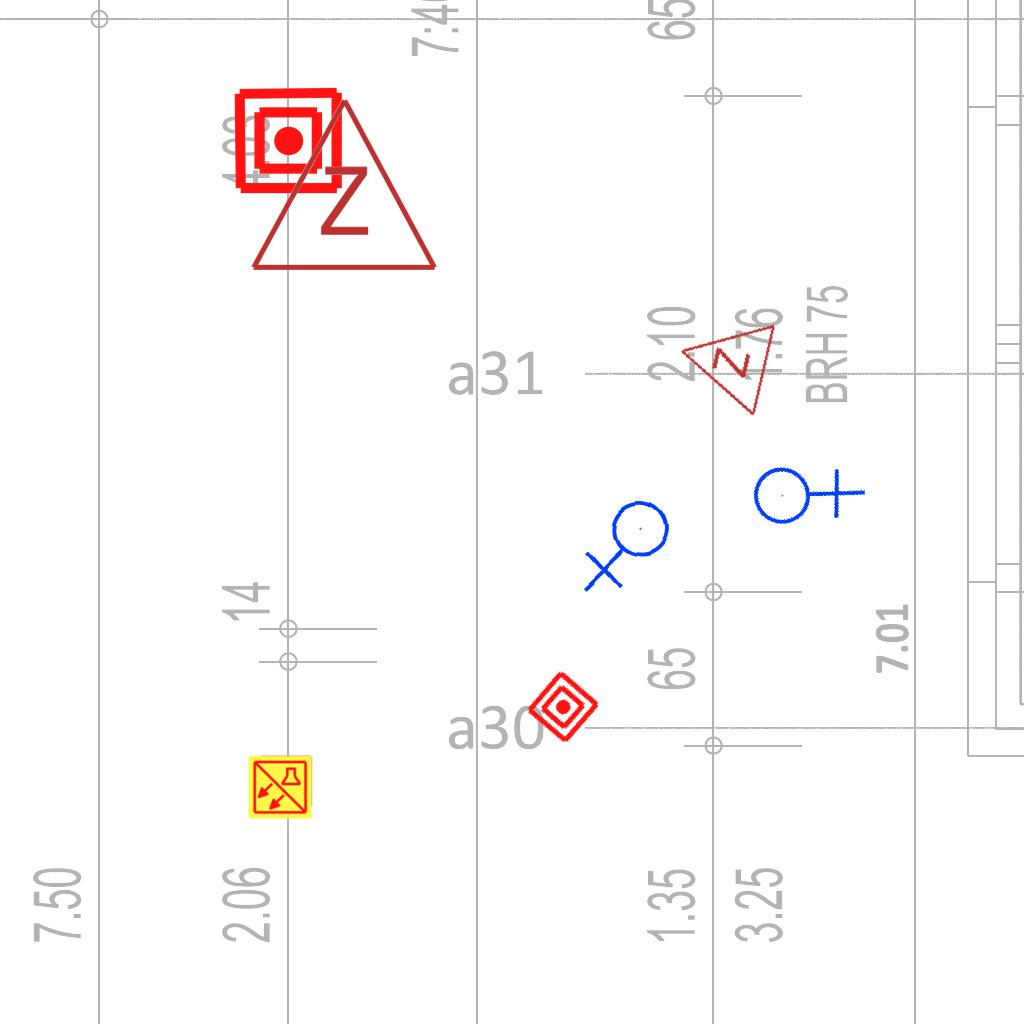Elektroanschluss_allgemein_230V_Geraeteanschlussdose_230V: (734, 422, 871, 560), (576, 496, 683, 598)
NAM-Nichtautomatischer_Melder: (232, 84, 345, 197), (523, 667, 603, 747)
OKW_Multisensormelder_(Kombination_optischer_Rauch-Kahlenmonoxid_Waerme-Melder): (247, 754, 313, 820)
Zimmersignalleuchte: (244, 85, 440, 285), (663, 303, 783, 421)
